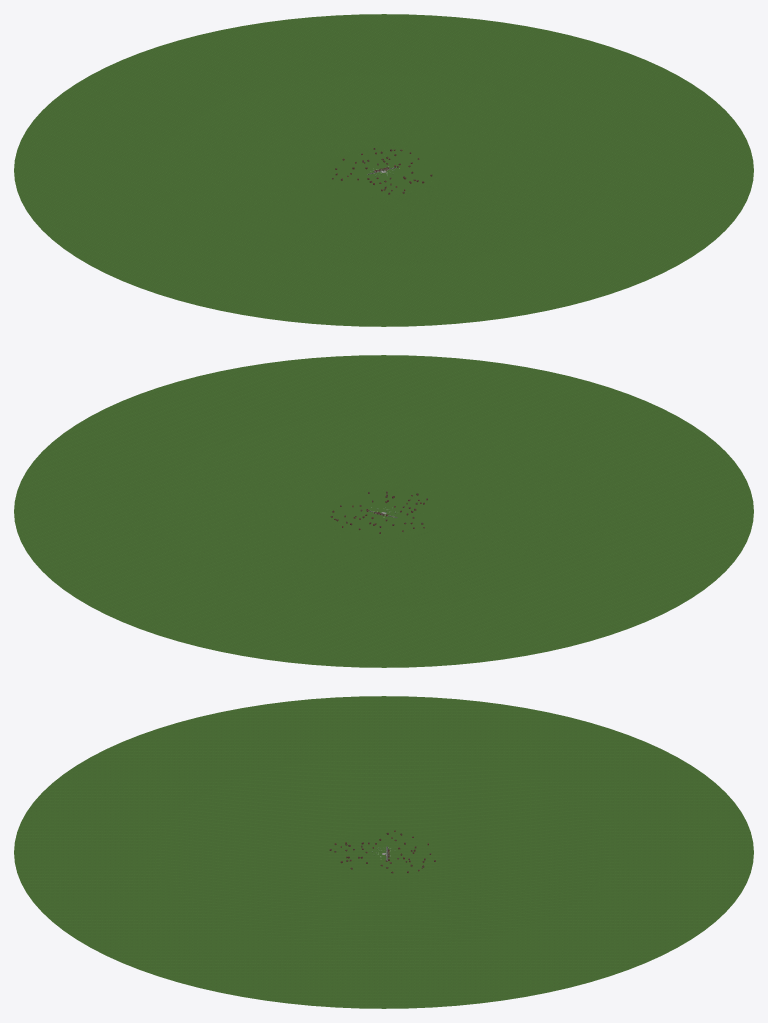
The model's file is maple-street.glb.
3 views of the same model, one above another, from view 1: azimuth 30°, elevation 25°; view 2: azimuth 150°, elevation 25°; view 3: azimuth 270°, elevation 25° (orthographic).
Parts seen in each view (by area): view 1: M_Grass_Far, M_Grass; view 2: M_Grass_Far, M_Grass; view 3: M_Grass_Far, M_Grass.
Boxes of the visible parts, box(x1,y1,x2,y2) form: M_Grass_Far: box(14, 14, 753, 326); M_Grass: box(363, 163, 404, 180); M_Grass_Far: box(14, 355, 753, 667); M_Grass: box(363, 504, 404, 521); M_Grass_Far: box(14, 696, 753, 1008); M_Grass: box(363, 845, 404, 862).
Size of the model in its own units: 5200 by 14.17 by 5200.
30 materials, 12 textured.
